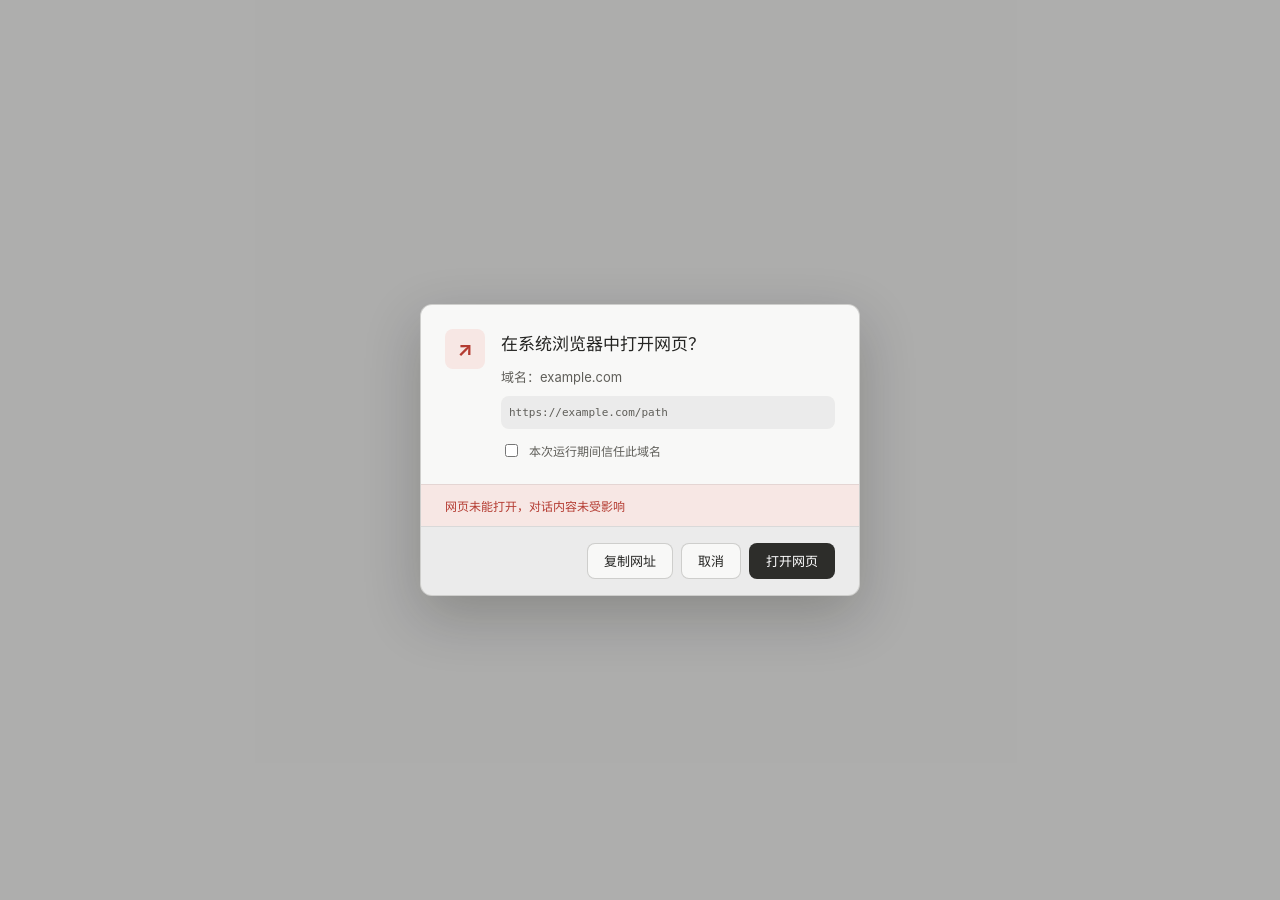
Scenario: ExternalLinkDialog › 在操作附近显示打开错误并支持复制网址
Expected: the message reads "网页未能打开，对话内容未受影响", [445, 499, 625, 514]
What coordinates should you click on to do the following:
click the button "复制网址"
I would click on:
 (630, 561)
Its box is [587, 543, 673, 579].
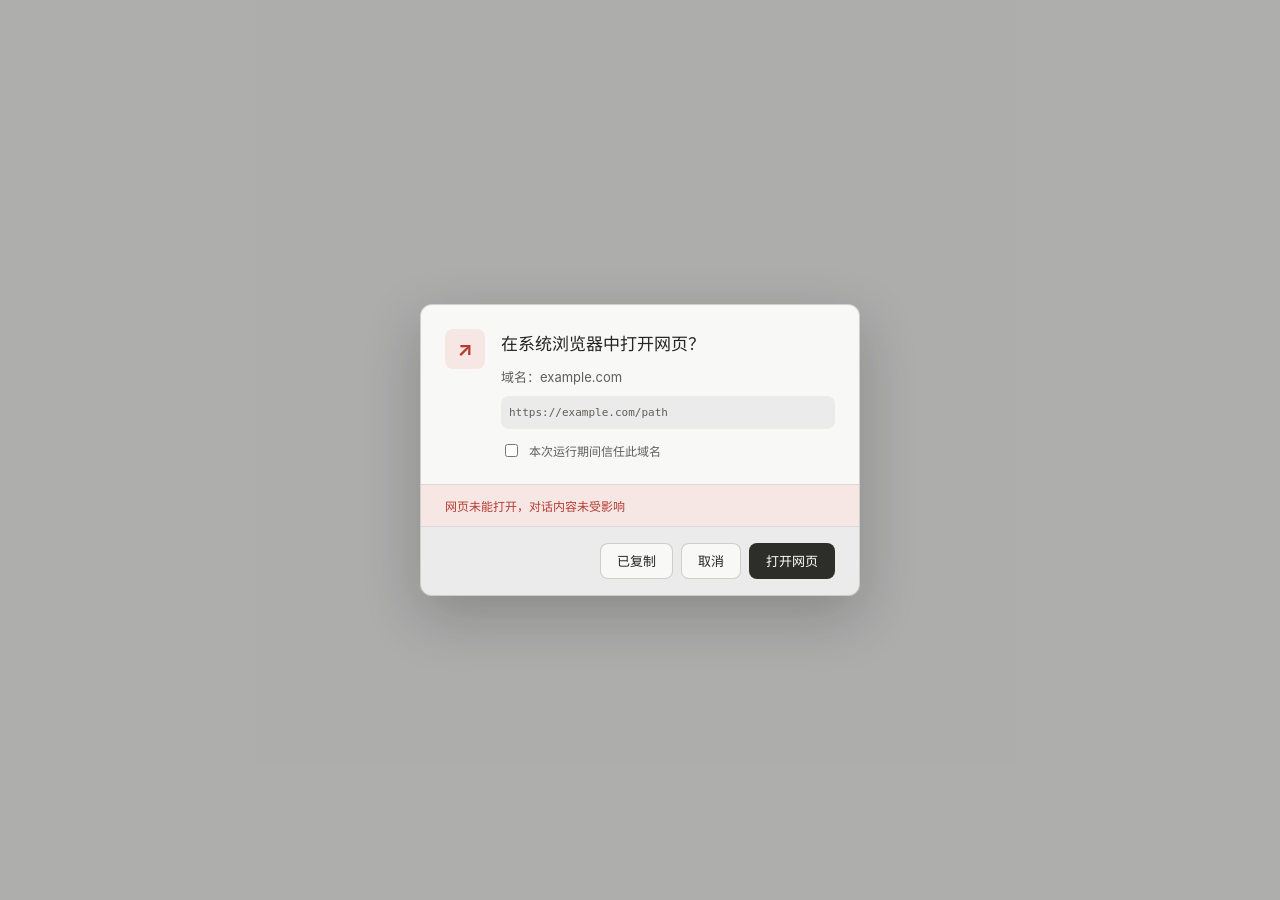
Now the button "已复制" is shown, box [600, 543, 673, 579]
